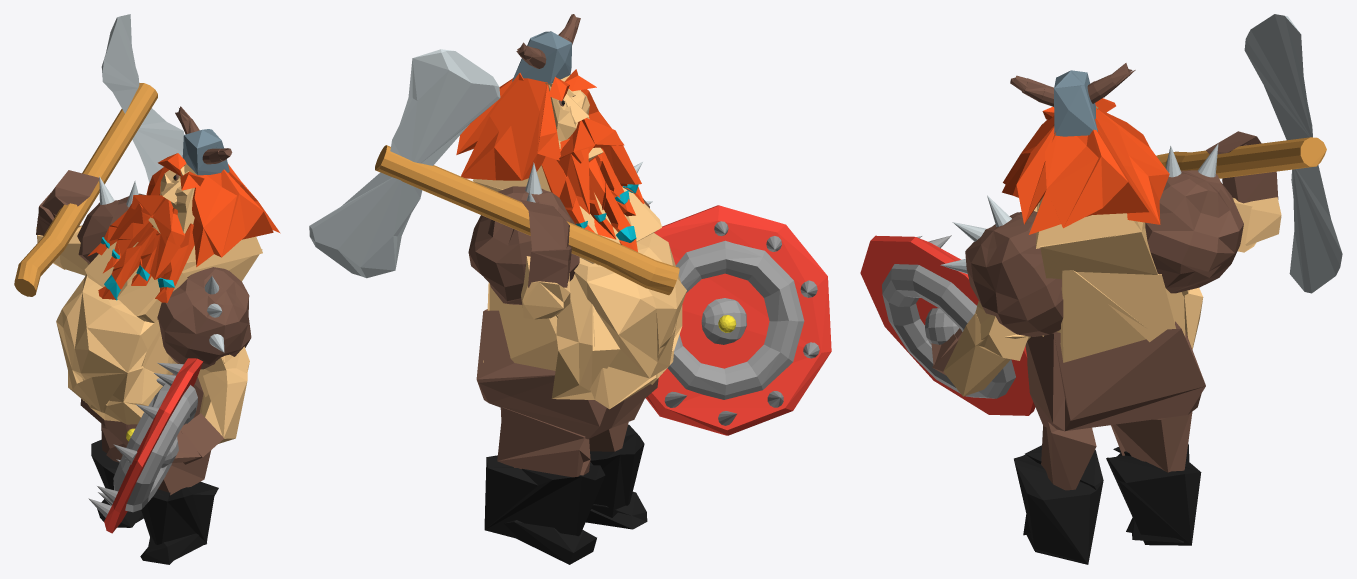
File: scene_jNhZOXEIXr.glb
3 views of the same model, side by side, from view 1: azimuth 30°, elevation 25°; view 2: azimuth 150°, elevation 25°; view 3: azimuth 270°, elevation 25° (orthographic). The views are drawn at different scales.
Visible parts, largest first — view 1: group1455390311, group239488340, group1597440840, group1049891644, group2112438448, group881776532, group33180336, group83462494, group1250469358, group1797646546, group570909734, group2147238931 (+23 smaller); view 2: group239488340, group33180336, group1455390311, group881776532, group292906578, group1309775752, group74384788, group570909734, group48771100, group2112438448, group1797646546, group993775527 (+14 smaller); view 3: group239488340, group292906578, group1455390311, group570909734, group1597440840, group1222459539, group2112438448, group33180336, group881776532, group1309775752, group1975334512, group74384788 (+13 smaller).
Boxes of the visible parts, box(x1,y1,x2,y2) form: group1455390311: box(56, 274, 177, 424); group239488340: box(14, 14, 184, 296); group1597440840: box(157, 267, 251, 369); group1049891644: box(192, 169, 273, 267); group2112438448: box(140, 481, 218, 564); group881776532: box(113, 383, 197, 512); group33180336: box(104, 358, 203, 533); group83462494: box(199, 368, 247, 443); group1250469358: box(153, 164, 262, 273); group1797646546: box(36, 170, 99, 235); group570909734: box(77, 193, 145, 263); group2147238931: box(172, 413, 224, 464); group239488340: box(309, 49, 679, 295); group33180336: box(646, 205, 831, 435); group1455390311: box(483, 233, 686, 409); group881776532: box(667, 240, 804, 399); group292906578: box(476, 309, 658, 439); group1309775752: box(484, 455, 605, 539); group74384788: box(461, 78, 560, 180); group570909734: box(468, 186, 579, 304); group48771100: box(497, 407, 590, 477); group2112438448: box(586, 424, 647, 529); group1797646546: box(520, 199, 571, 287); group993775527: box(504, 520, 596, 564); group239488340: box(1156, 14, 1342, 293); group292906578: box(1025, 321, 1205, 431); group1455390311: box(1057, 270, 1203, 362); group570909734: box(1145, 170, 1243, 293); group1597440840: box(965, 211, 1063, 336); group1222459539: box(1029, 119, 1148, 234); group2112438448: box(1014, 445, 1103, 564); group33180336: box(860, 235, 1035, 415); group881776532: box(882, 264, 1015, 398); group1309775752: box(1106, 444, 1201, 545); group1975334512: box(1038, 203, 1157, 279); group74384788: box(1096, 108, 1169, 224).
Size of the model in its own units: 1.53 by 2.59 by 2.05.
